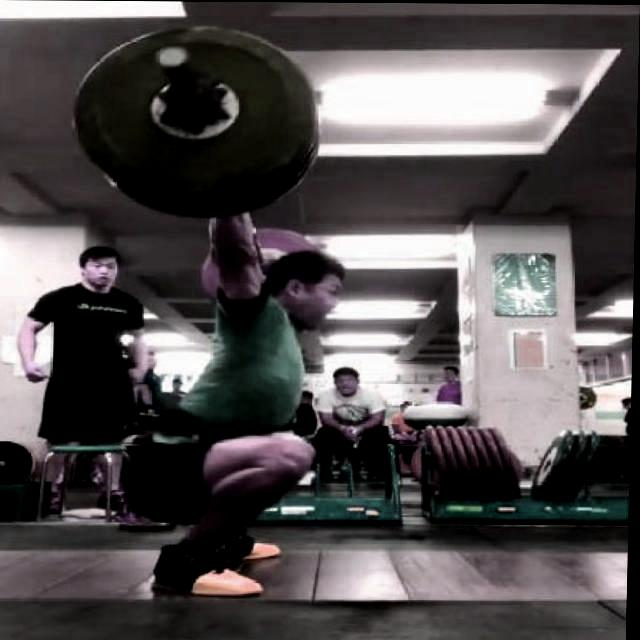barbell: (70, 17, 325, 217)
